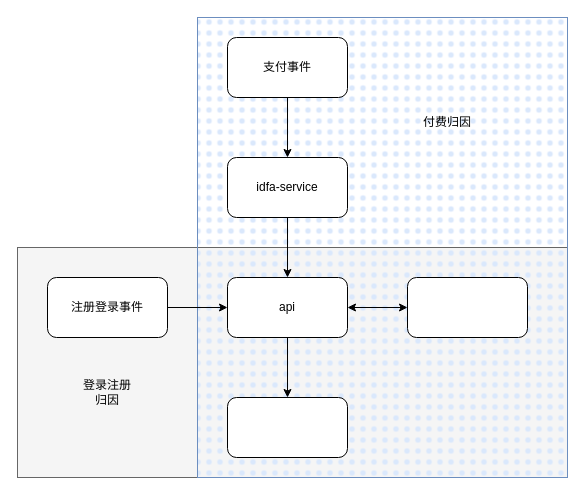
Some shapes in this 585 by 495 pixel diagram are drawn without their labels. Each missing label, with the box of its shape:
code-base: (406, 276, 528, 338)
媒体: (226, 396, 348, 458)
